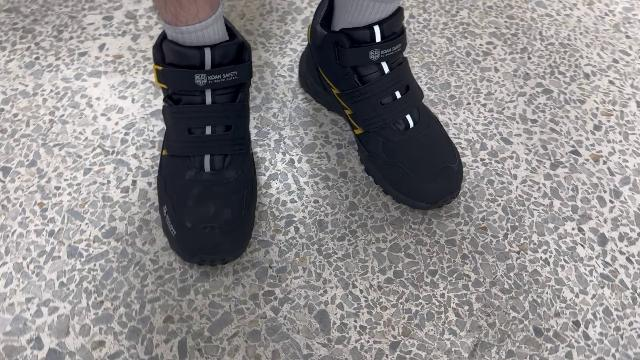shoe_worn: (293, 2, 469, 211), (134, 15, 266, 266)
